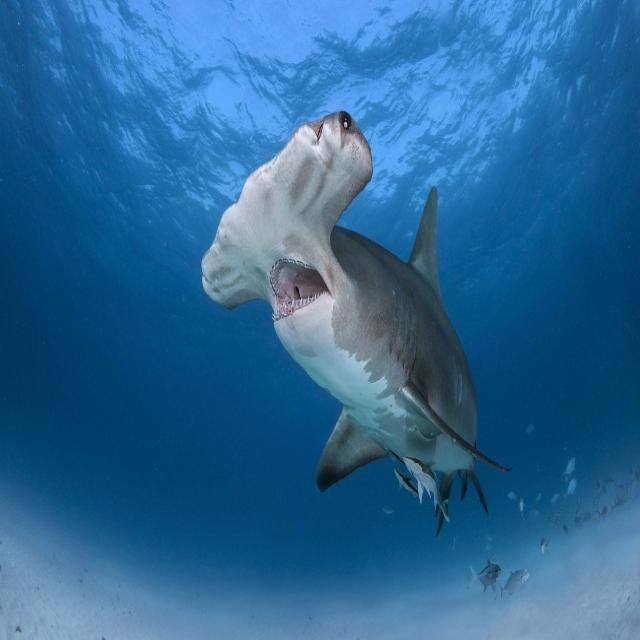shark: (202, 111, 486, 510), (403, 458, 439, 506)
